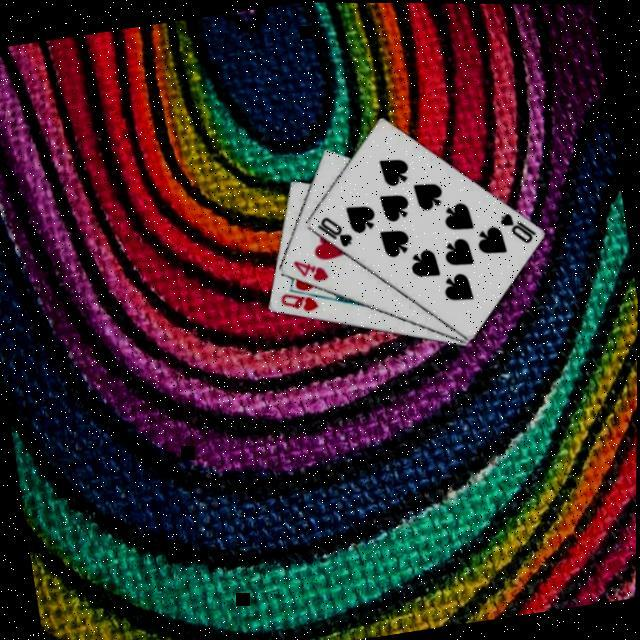10S: (314, 210, 357, 253), (497, 206, 540, 249)
4H: (291, 253, 333, 289)
QH: (278, 286, 324, 318)
